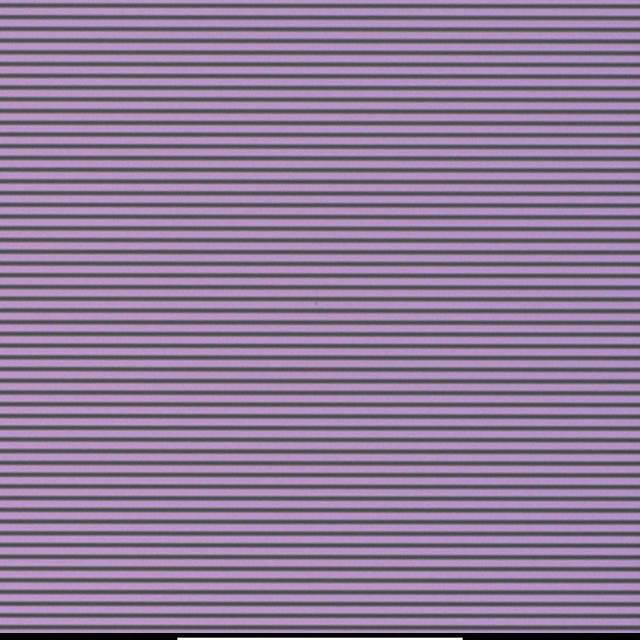nonvisual: (314, 299, 322, 307)
